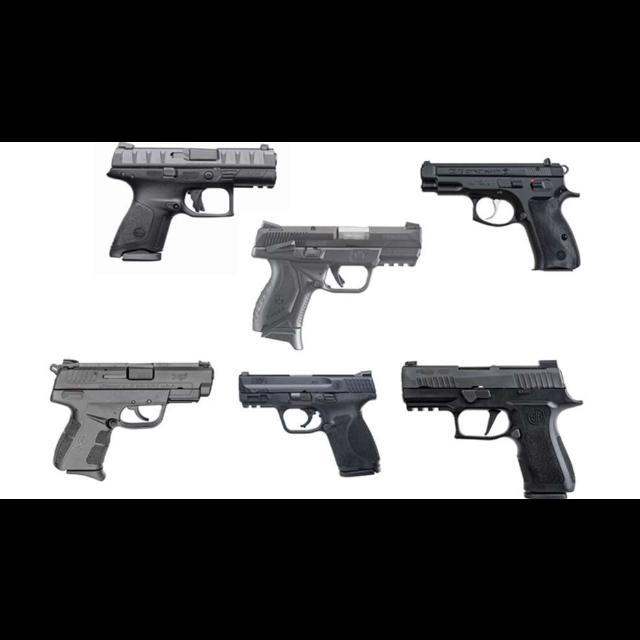handgun: (400, 357, 588, 498), (248, 215, 424, 353), (48, 354, 218, 484), (100, 141, 280, 263), (420, 156, 584, 272), (236, 368, 384, 480)
